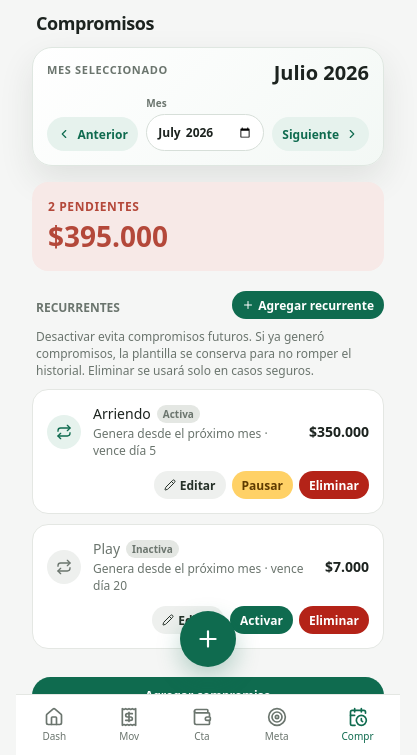
Test: CommitmentsPage › shows a Spanish error when toggling a recurrent template fails
This screenshot has width=417, height=755.
Click the button with aria-label "Pausar Arriendo". click: x=262, y=485
box: top-left (232, 471), bottom-right (293, 499)
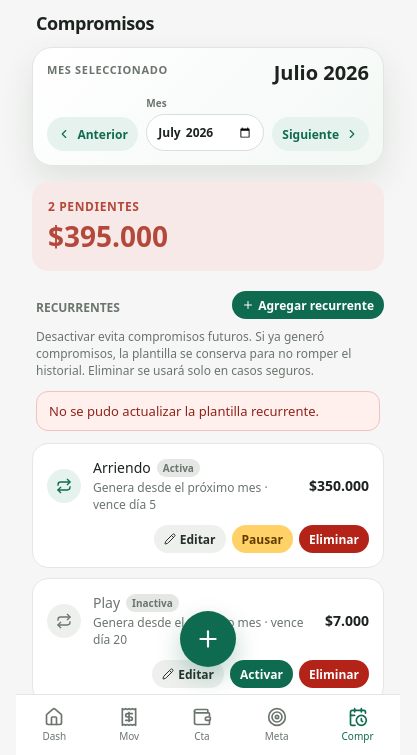
Expected: the message reads "No se pudo actualizar la plantilla recurrente.", top-left (49, 402), bottom-right (319, 420)
